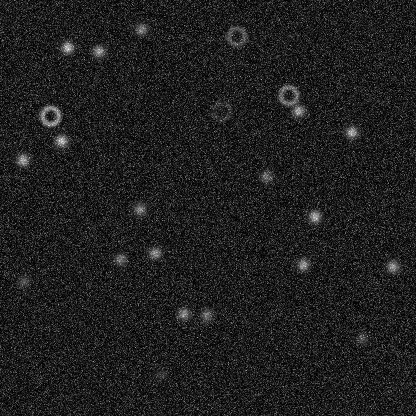Ring: (276, 83, 300, 107), (38, 103, 62, 127), (209, 99, 233, 123), (224, 24, 248, 48)
Spot: (290, 102, 306, 118), (90, 43, 106, 59), (354, 329, 370, 345), (384, 258, 400, 274), (175, 305, 191, 321), (14, 151, 30, 167), (257, 168, 273, 184), (53, 132, 69, 148), (15, 273, 31, 289), (343, 124, 359, 140), (133, 21, 149, 37), (198, 307, 214, 323), (131, 201, 147, 217), (111, 251, 127, 267), (306, 208, 322, 224), (59, 39, 75, 55), (152, 366, 168, 382), (294, 256, 310, 272), (147, 244, 163, 260)
